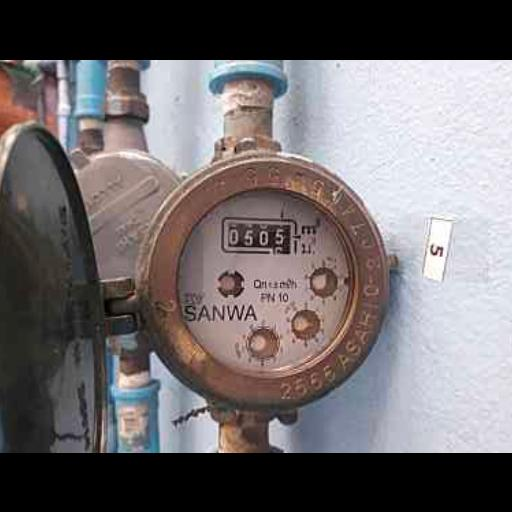0: (257, 222, 274, 247), (227, 222, 242, 247)
5: (273, 223, 291, 255), (241, 222, 257, 247)
border_water_meter_number: (220, 216, 298, 255)
